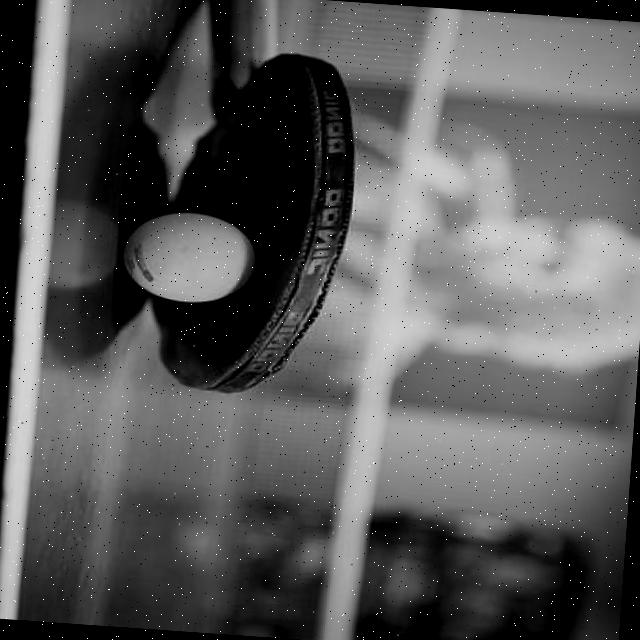ping-pong-ball: (112, 206, 258, 308)
